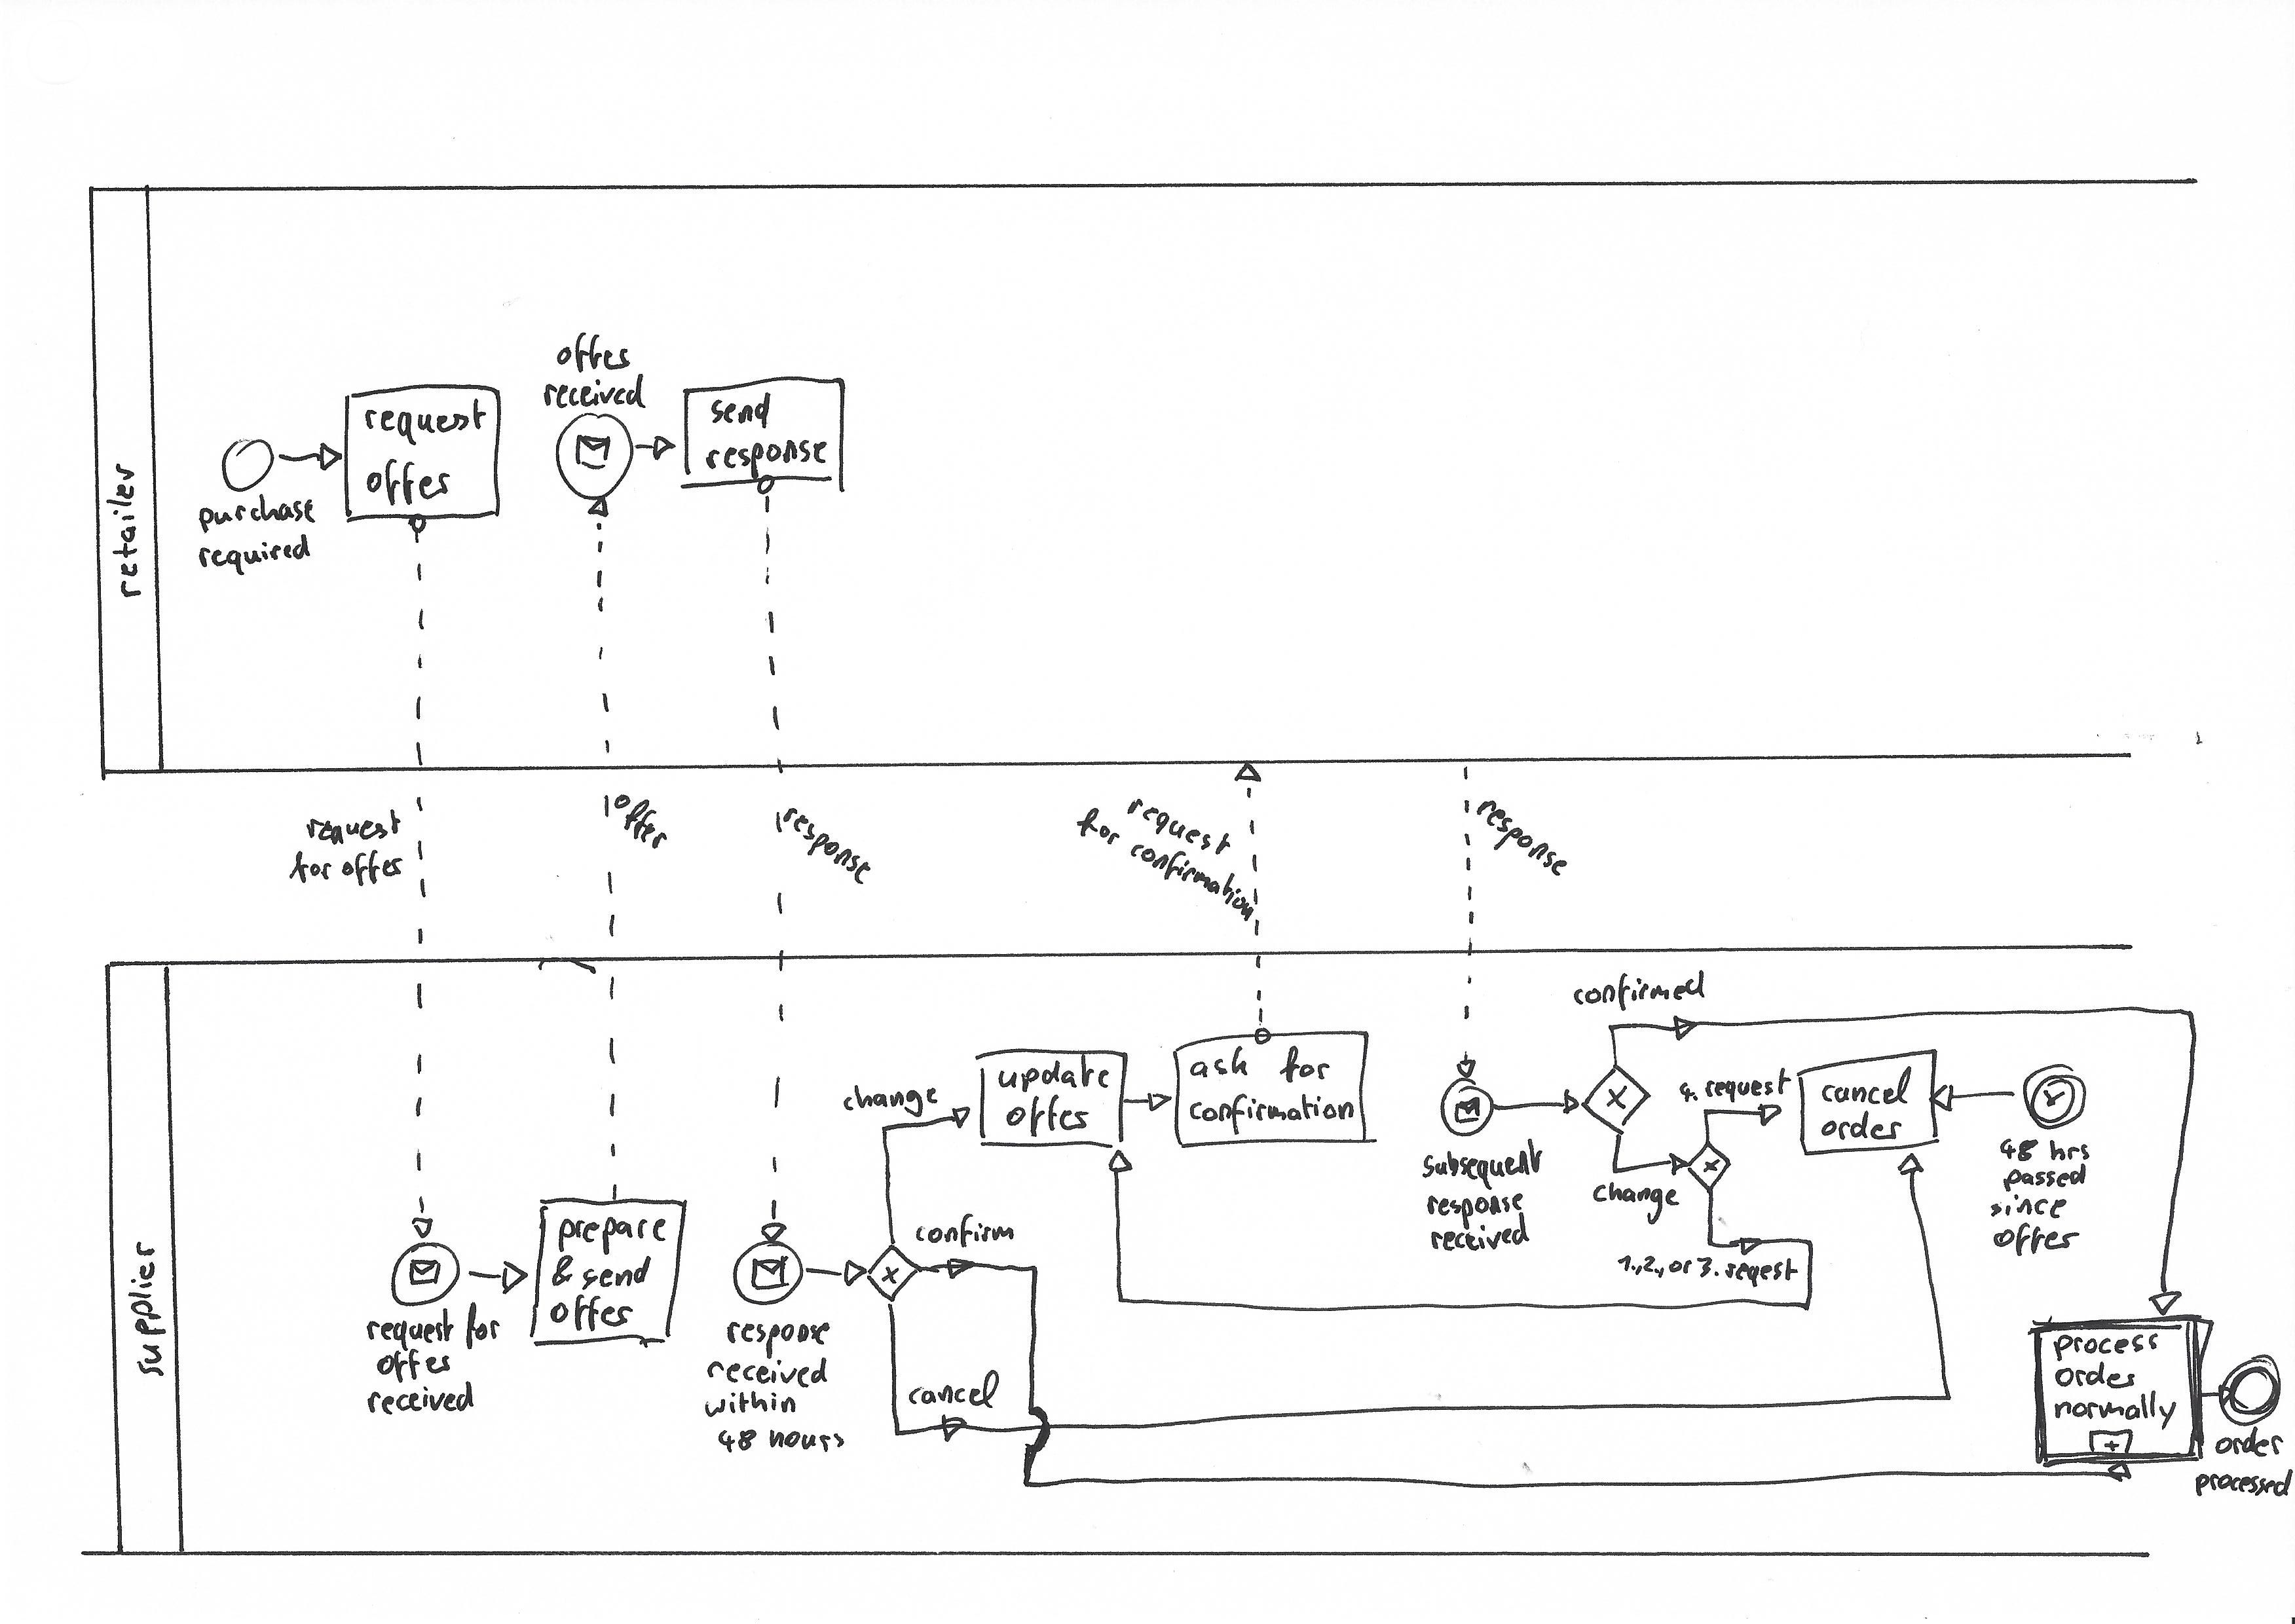&: (547, 1250, 575, 1295)
1.,2., or 3.: (1617, 1250, 1724, 1287)
4.: (1673, 1079, 1701, 1106)
48: (715, 1420, 757, 1459), (1996, 1135, 2042, 1167)
ask: (1188, 1048, 1249, 1079)
cancel: (898, 1374, 1010, 1410), (1819, 1072, 1912, 1107)
change: (821, 1084, 972, 1123), (1582, 1178, 1685, 1214)
confirm: (921, 1220, 1003, 1248)
confirmation: (1132, 847, 1253, 924), (1181, 1095, 1357, 1130)
confirmed: (1575, 968, 1706, 1011), (1077, 807, 1123, 851)
for: (1267, 1049, 1348, 1086), (279, 844, 334, 886), (460, 1302, 506, 1345)
hours: (752, 1427, 879, 1455)
hrs: (2049, 1139, 2089, 1160)
normally: (2052, 1403, 2179, 1425)
offer: (351, 462, 467, 506), (603, 782, 670, 852), (543, 1297, 647, 1332), (1995, 1225, 2075, 1257), (371, 1352, 460, 1378), (1009, 1102, 1090, 1130), (337, 851, 411, 881)
offes: (552, 334, 633, 374)
order: (2042, 1362, 2158, 1392), (1819, 1111, 1901, 1139), (2219, 1429, 2281, 1459)
passed: (2000, 1162, 2095, 1193)
prepare: (557, 1213, 664, 1248)
process: (2063, 1330, 2149, 1362)
processed: (2197, 1468, 2295, 1506)
purchase: (195, 489, 322, 526)
received: (710, 1352, 826, 1385), (1425, 1220, 1531, 1251), (541, 380, 650, 410), (366, 1383, 471, 1411)
request: (300, 780, 401, 847), (1126, 791, 1232, 851), (360, 401, 490, 441), (364, 1313, 448, 1348), (1703, 1072, 1792, 1102), (1724, 1257, 1796, 1292)
required: (193, 534, 311, 573)
response: (1462, 791, 1583, 888), (782, 803, 877, 886), (701, 439, 829, 473), (729, 1311, 836, 1350), (1430, 1186, 1515, 1225)
retailer: (104, 462, 151, 603)
send: (573, 1255, 657, 1290), (706, 397, 771, 427)
since: (1979, 1192, 2077, 1223)
subsequent: (1415, 1149, 1543, 1178)
supplier: (127, 1241, 160, 1378)
update: (996, 1055, 1109, 1091)
within: (696, 1385, 800, 1413)
